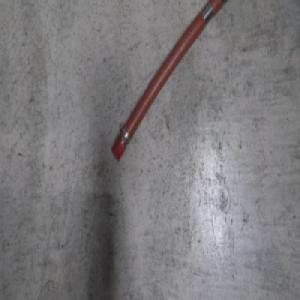Hose: (110, 0, 233, 164)
